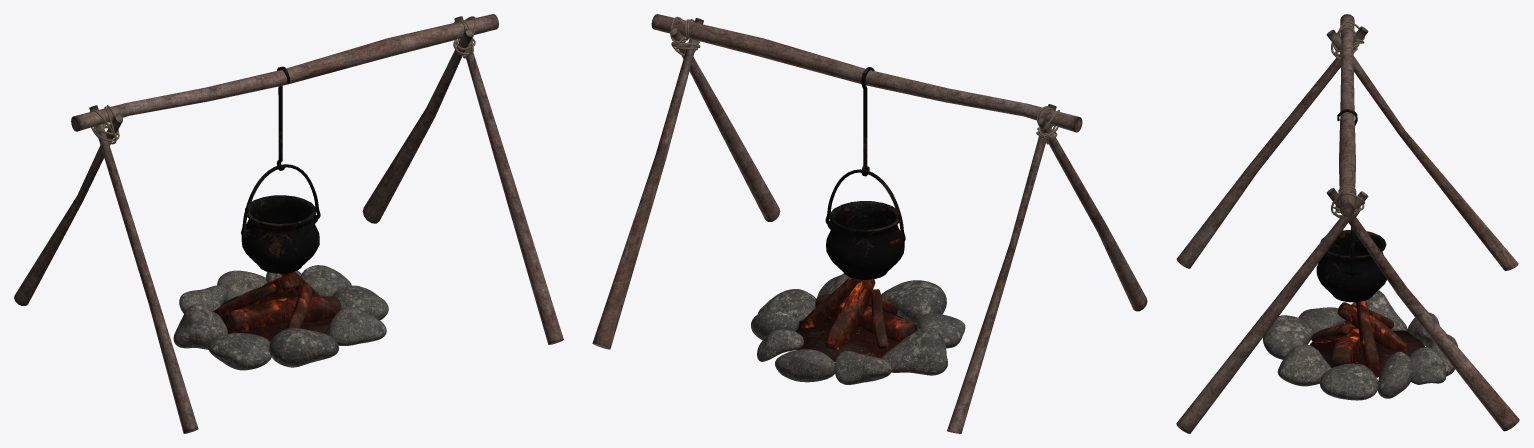
The model's file is campfire.glb.
3 renders of one model, left to right at view 1: azimuth 30°, elevation 25°; view 2: azimuth 150°, elevation 25°; view 3: azimuth 270°, elevation 25°, orthographic. The views are drawn at different scales.
Parts seen in each view (by area): view 1: wooden logs, rock.015, wooden_log_top, kettle, burnt logs, nashshiri, ropes; view 2: wooden logs, rock.015, wooden_log_top, kettle, burnt logs, nashshiri, ropes, kauchi; view 3: wooden logs, rock.015, kettle, burnt logs, wooden_log_top, nashshiri, ropes.
Boxes of the visible parts, x1,y1,x2,y2 form: wooden logs: (14, 16, 563, 433); rock.015: (173, 265, 388, 370); wooden_log_top: (71, 14, 498, 131); kettle: (241, 164, 320, 273); burnt logs: (218, 271, 341, 332); nashshiri: (213, 290, 333, 342); ropes: (90, 16, 476, 144); wooden logs: (592, 18, 1147, 433); rock.015: (751, 273, 965, 384); wooden_log_top: (651, 14, 1082, 132); kettle: (825, 169, 905, 279); burnt logs: (799, 277, 914, 350); nashshiri: (796, 314, 917, 362); ropes: (670, 16, 1059, 144); kauchi: (861, 67, 874, 176); wooden logs: (1176, 26, 1519, 433); rock.015: (1263, 290, 1457, 400); kettle: (1316, 227, 1386, 302); burnt logs: (1311, 300, 1408, 372); wooden_log_top: (1339, 14, 1355, 216); nashshiri: (1309, 330, 1425, 377); ropes: (1331, 21, 1364, 220).
Bounding box in the file's own units: 411 × 263 × 315.
Materials: 2 (2 with a texture image).
